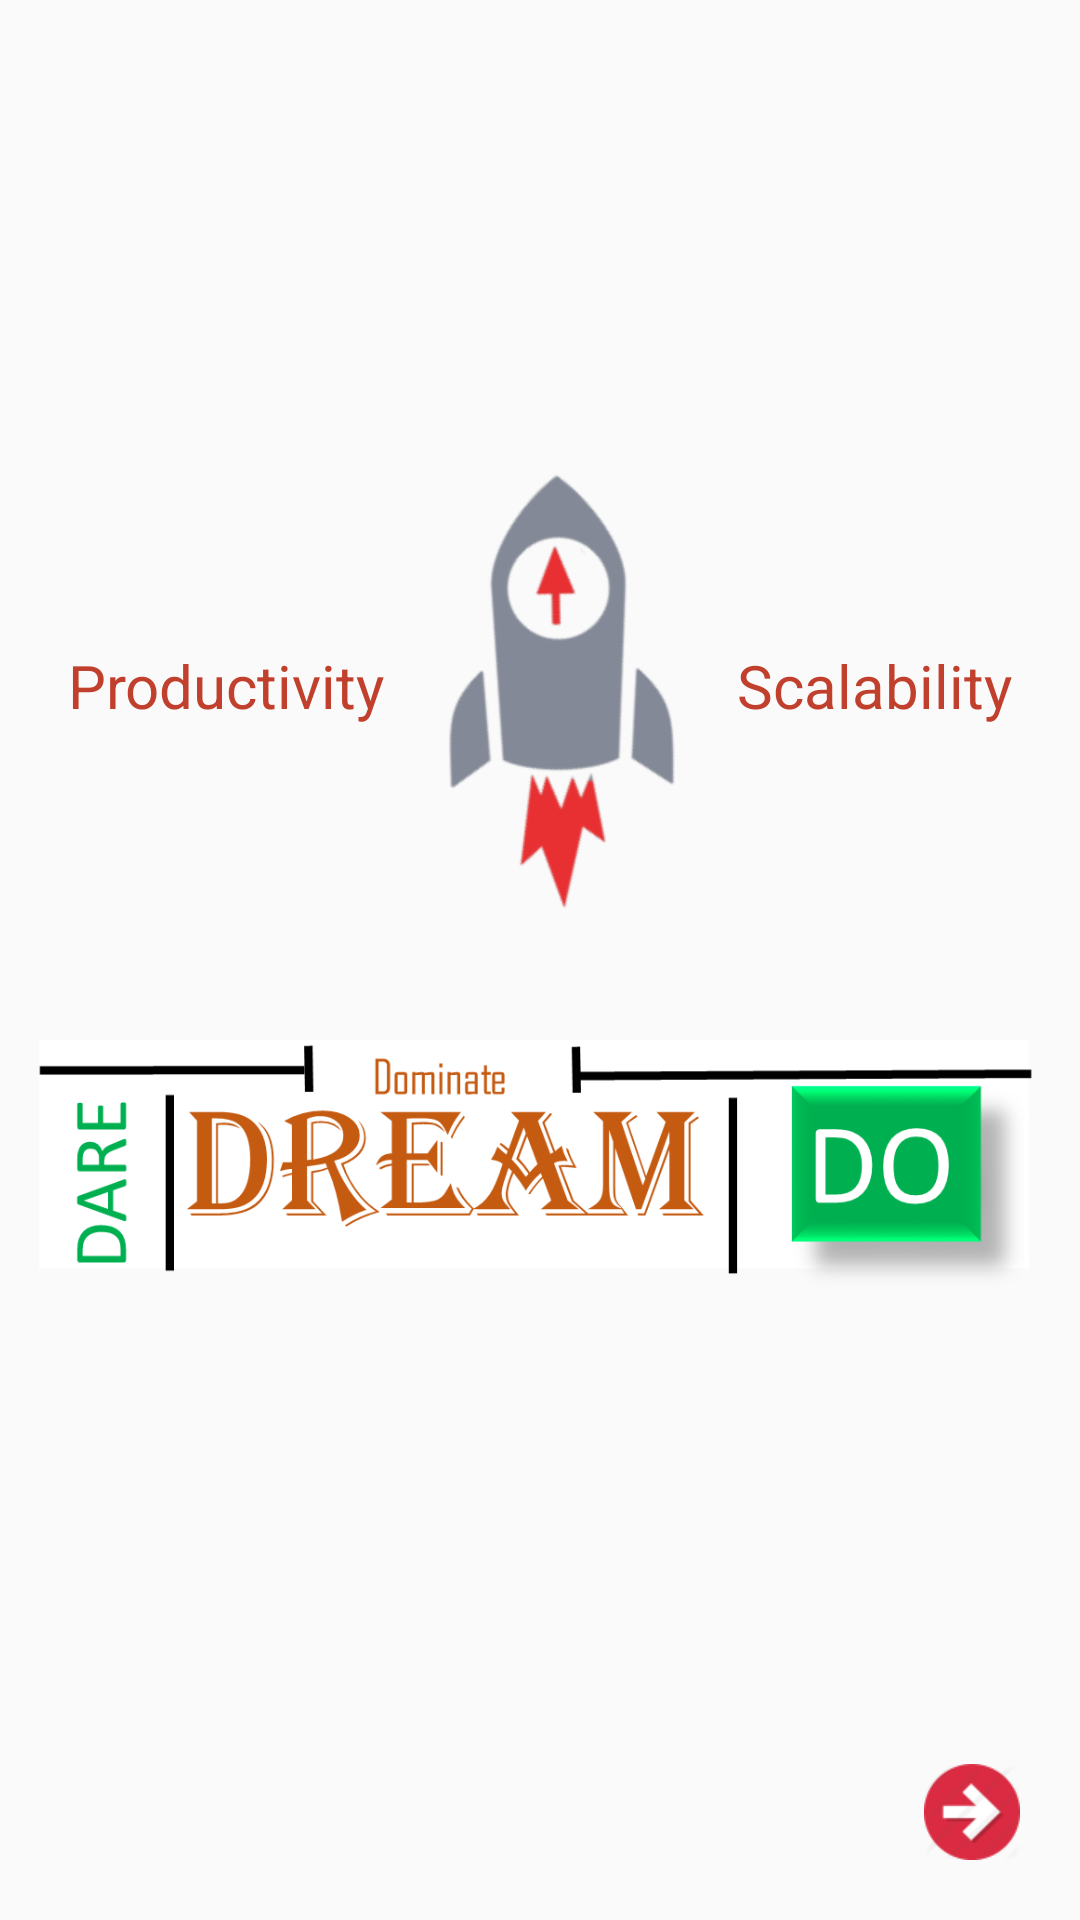

Where to tap for icons on this 1080×1920 app screen, as (x=x, y=y):
next: (x=972, y=1812)
